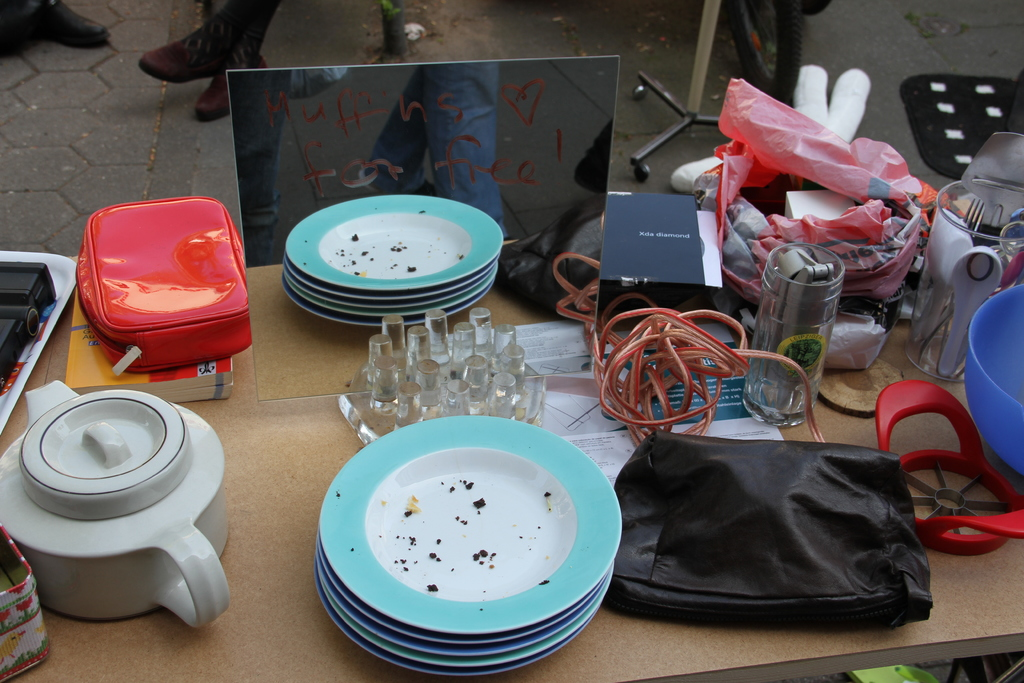plate: (288, 278, 486, 307)
